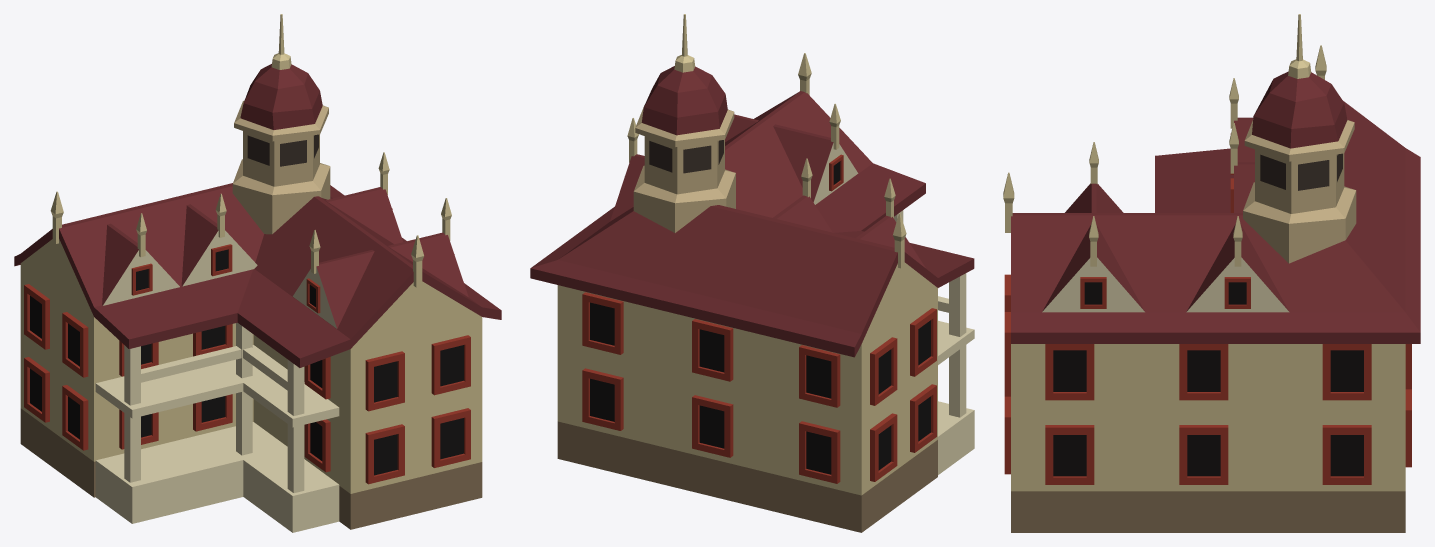
Rendered from Mansion_Tiny.fbx.
The picture shows the model from 3 angles, left to right: view 1: azimuth 30°, elevation 25°; view 2: azimuth 150°, elevation 25°; view 3: azimuth 270°, elevation 25°; orthographic projection. The views are drawn at different scales.
Parts seen in each view (by area): view 1: SM_Bld_Pirate_Mansion_01; view 2: SM_Bld_Pirate_Mansion_01; view 3: SM_Bld_Pirate_Mansion_01.
Boxes of the visible parts, x1,y1,x2,y2 form: SM_Bld_Pirate_Mansion_01: (14, 14, 501, 532); SM_Bld_Pirate_Mansion_01: (530, 14, 974, 532); SM_Bld_Pirate_Mansion_01: (1003, 14, 1420, 532).
Bounding box in the file's own units: 158 × 196 × 156.
